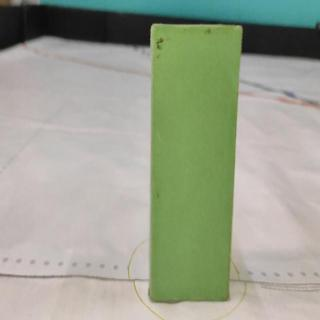greenbox: (147, 23, 234, 303)
